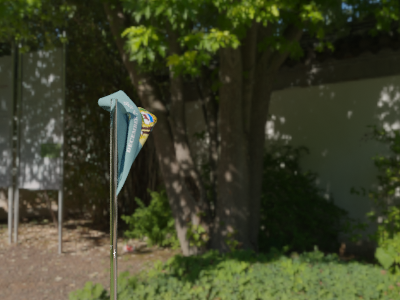Delaware flag: (97, 87, 158, 196)
